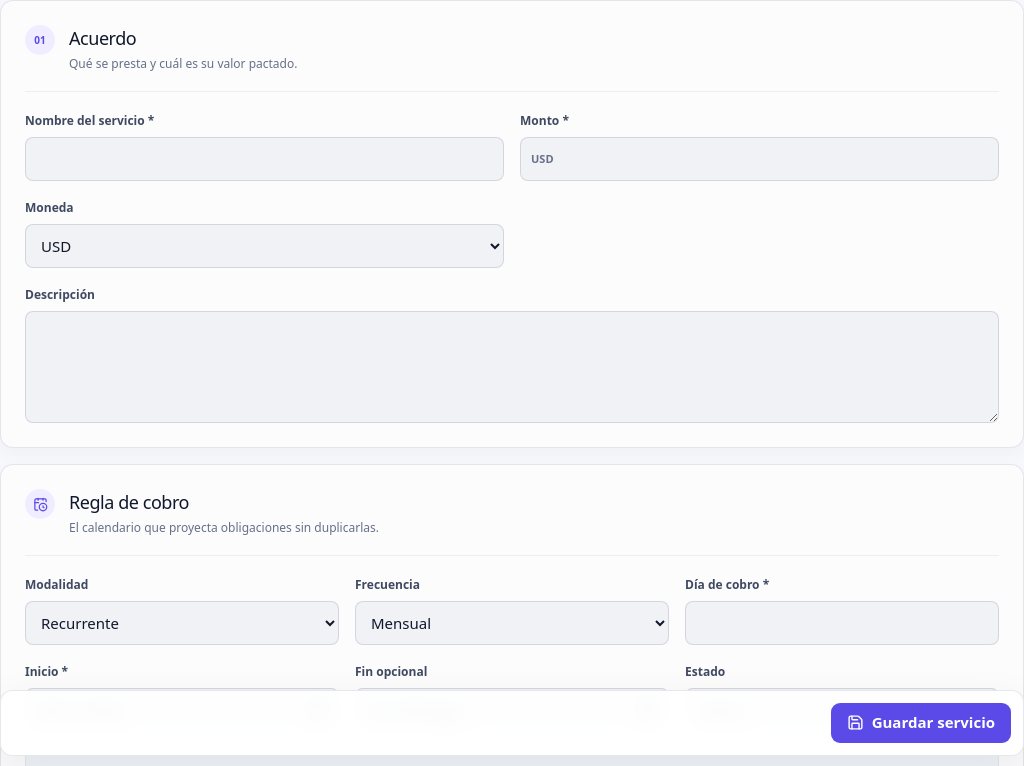
Scenario: ServiceForm › switches coherently between recurring and one-time billing
Expected: the number field labelled "Día de cobro *" is enabled, [685, 601, 999, 645]
Select "Único" in the dropdown labelled "Modalidad" at (182, 623), box [25, 601, 339, 645]
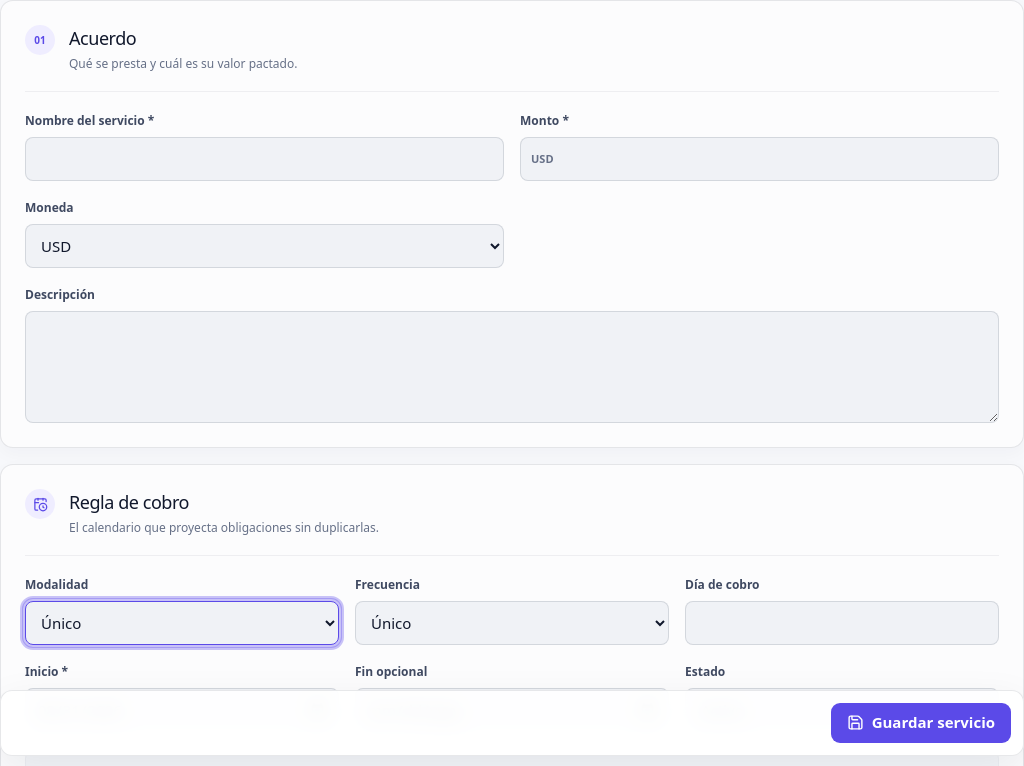
Expected: the number field labelled "Día de cobro" is disabled, [685, 601, 999, 645]
Expected: the dropdown labelled "Frecuencia" is disabled, [355, 601, 669, 645]
